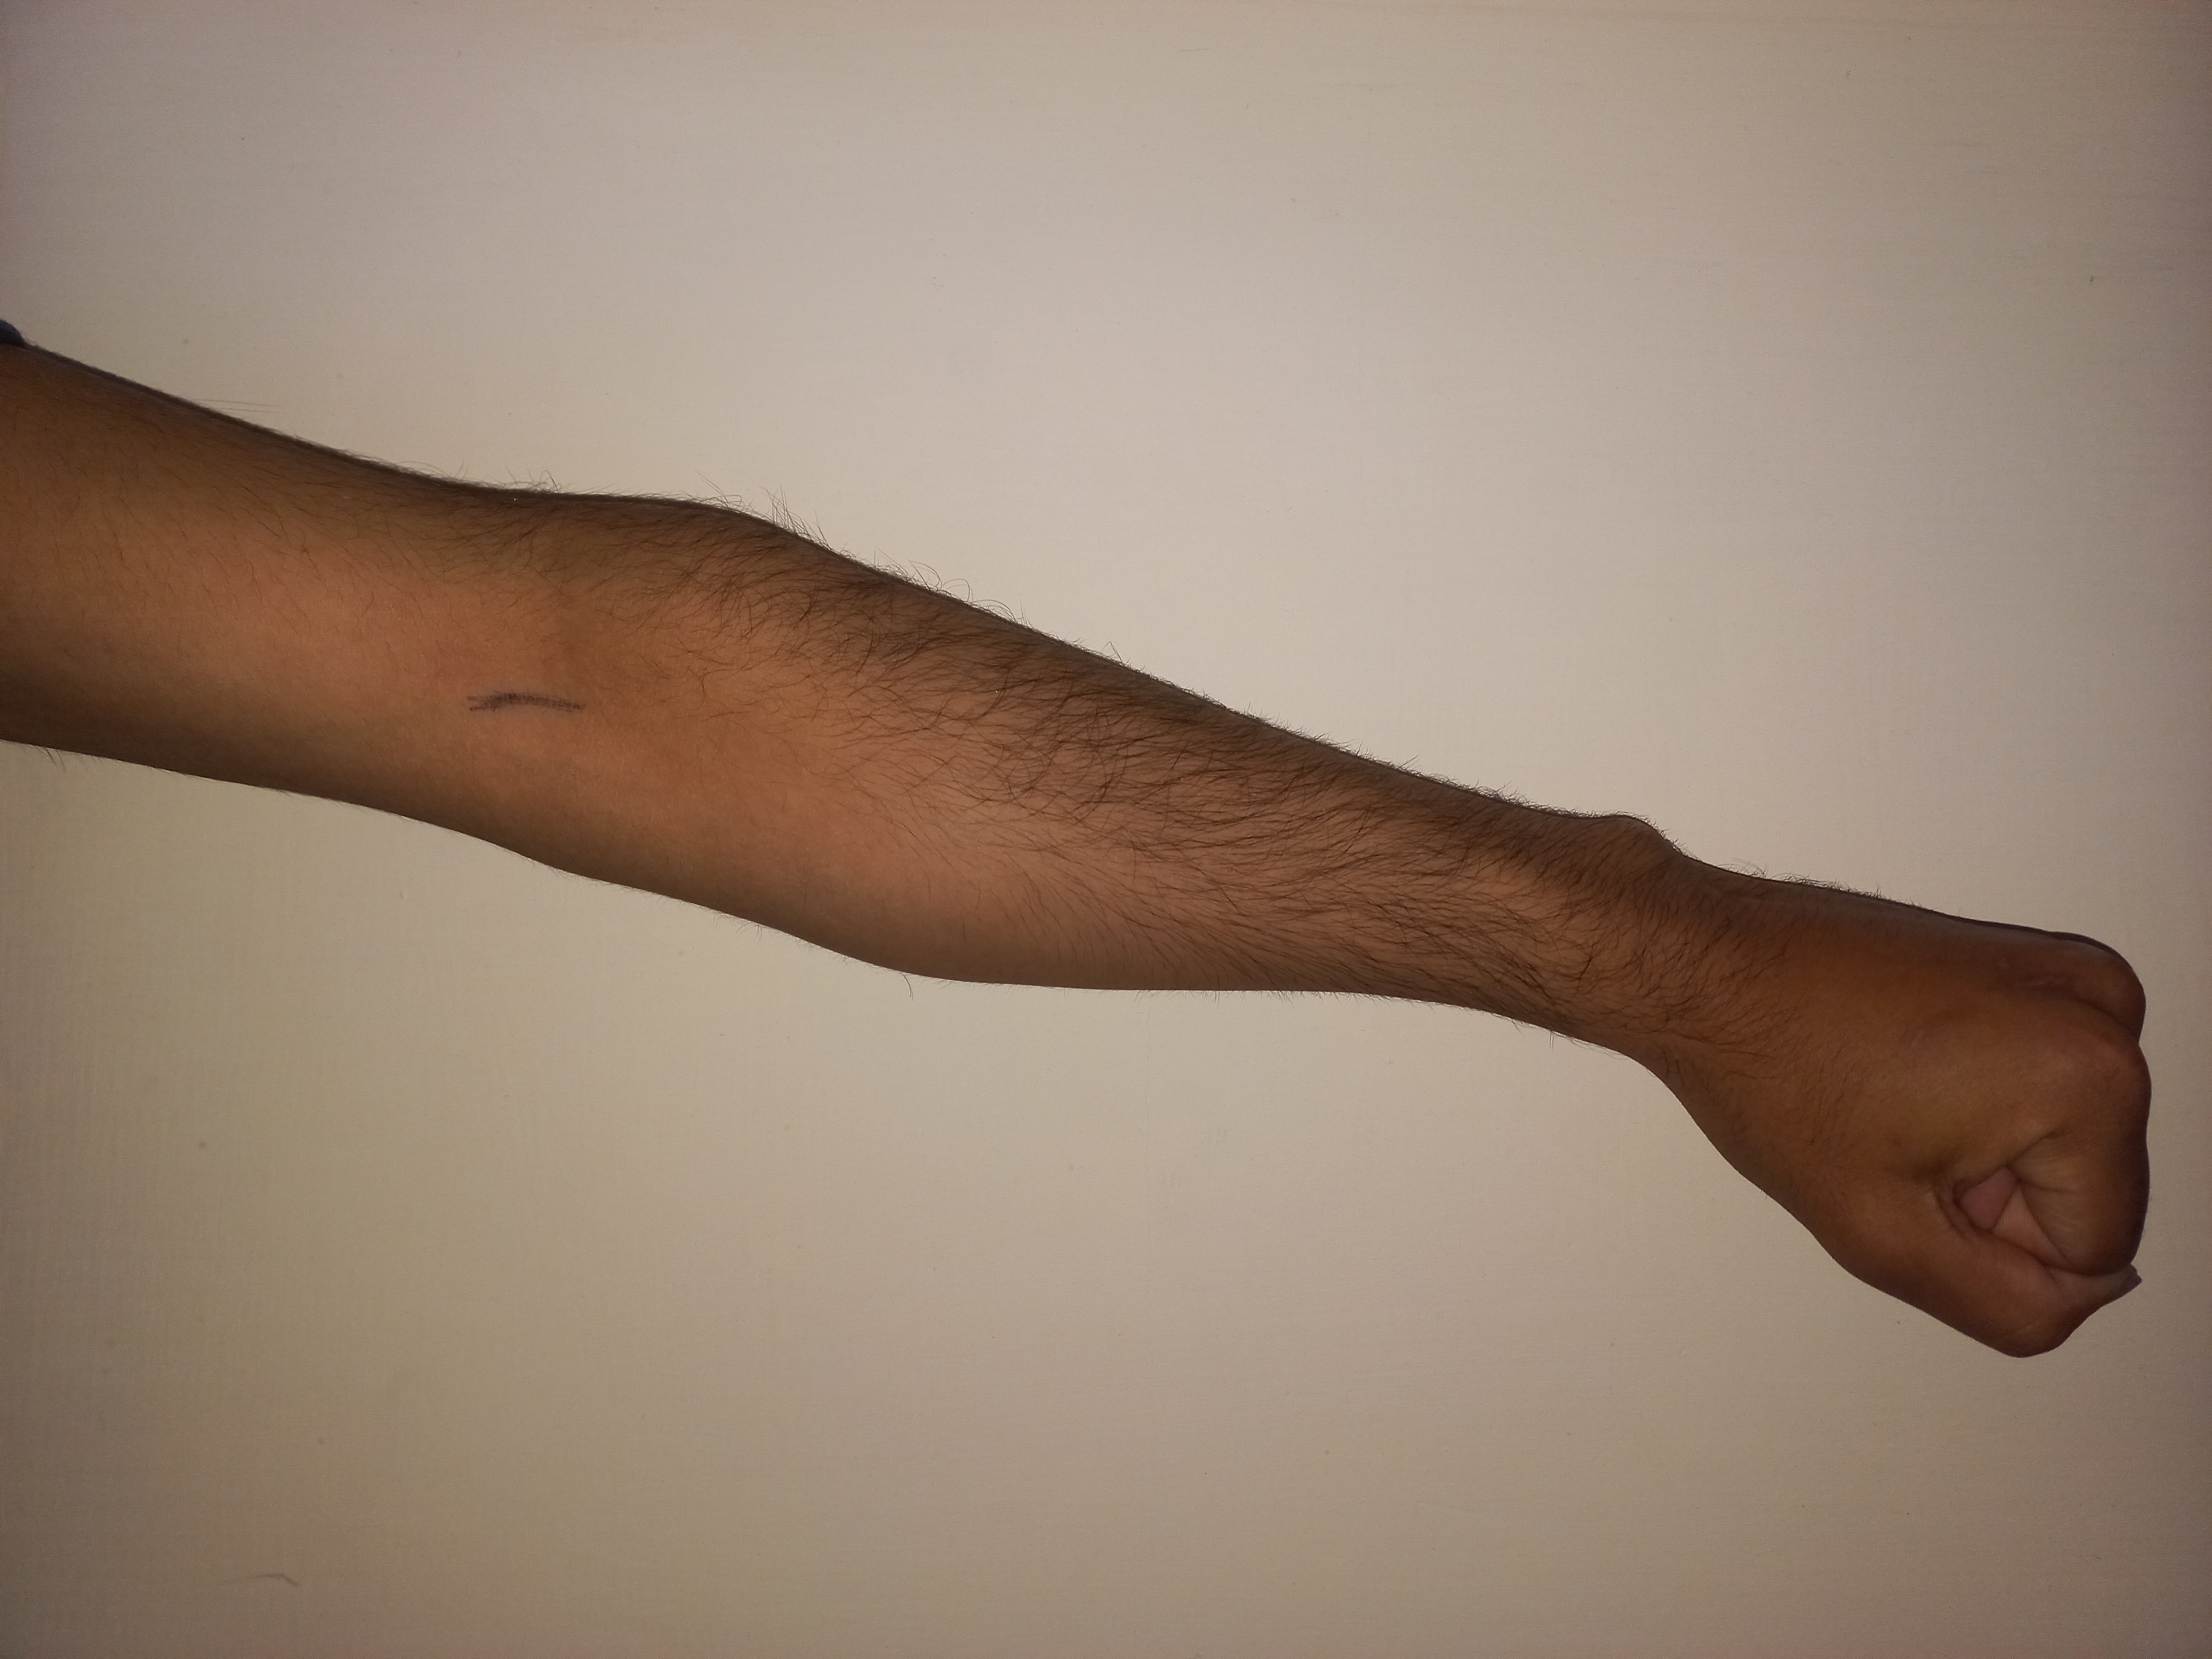vein: (455, 683, 613, 725)
